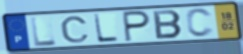B: (152, 9, 185, 40)
C: (185, 7, 216, 39), (59, 15, 92, 44)
L: (29, 15, 58, 48), (92, 13, 121, 44)
P: (121, 10, 152, 44)
